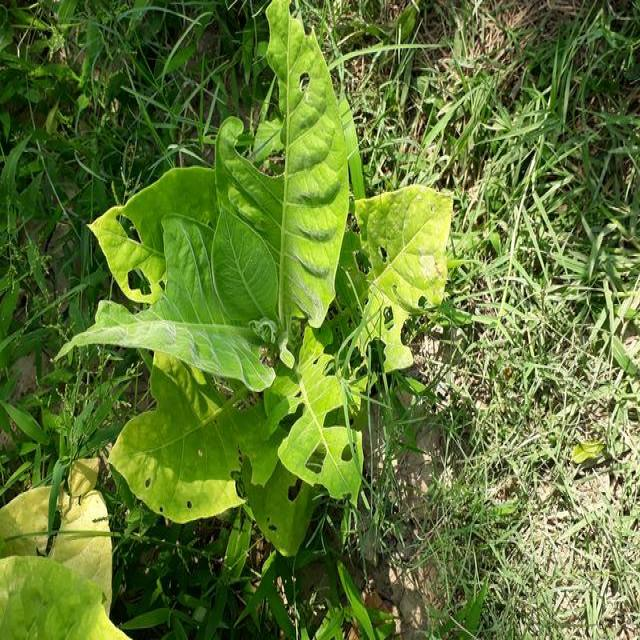crop: (60, 1, 452, 562)
